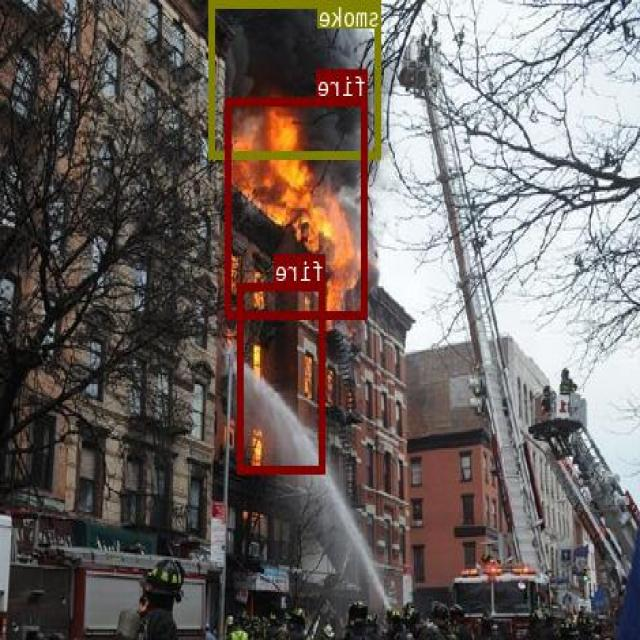fire: (226, 98, 368, 316), (239, 281, 326, 472)
smoke: (212, 0, 383, 156)
